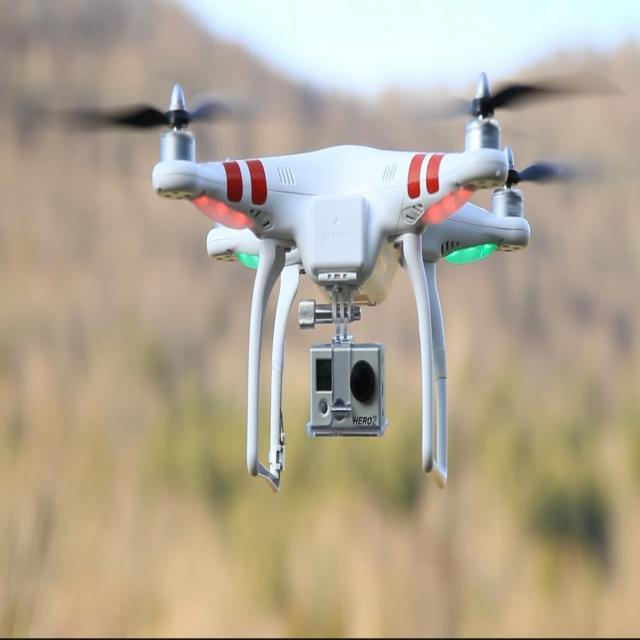drone: (145, 69, 533, 496)
